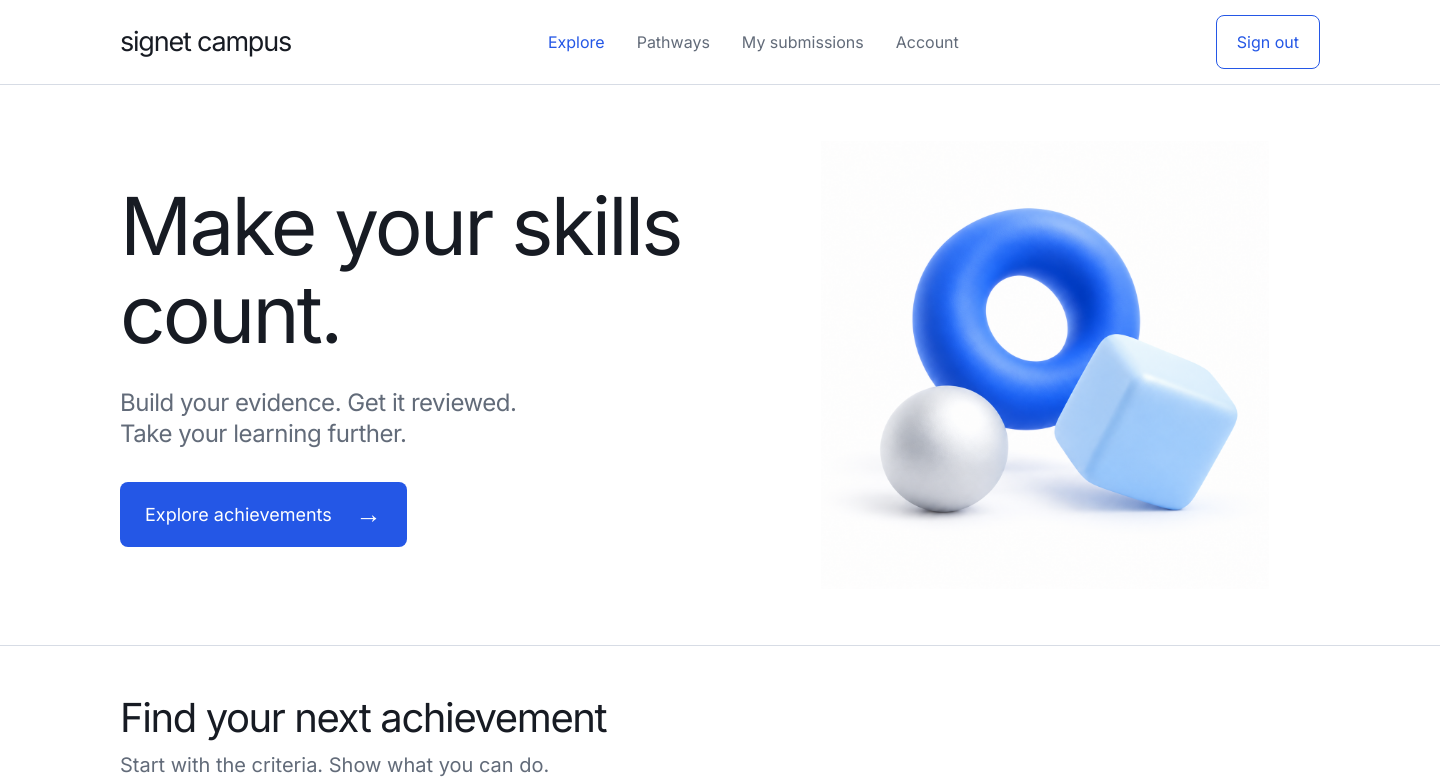
enrolls in a pathway and displays current credential progress
Step 1. Click the button "Pathways" → (673, 42), box [637,16,710,68]
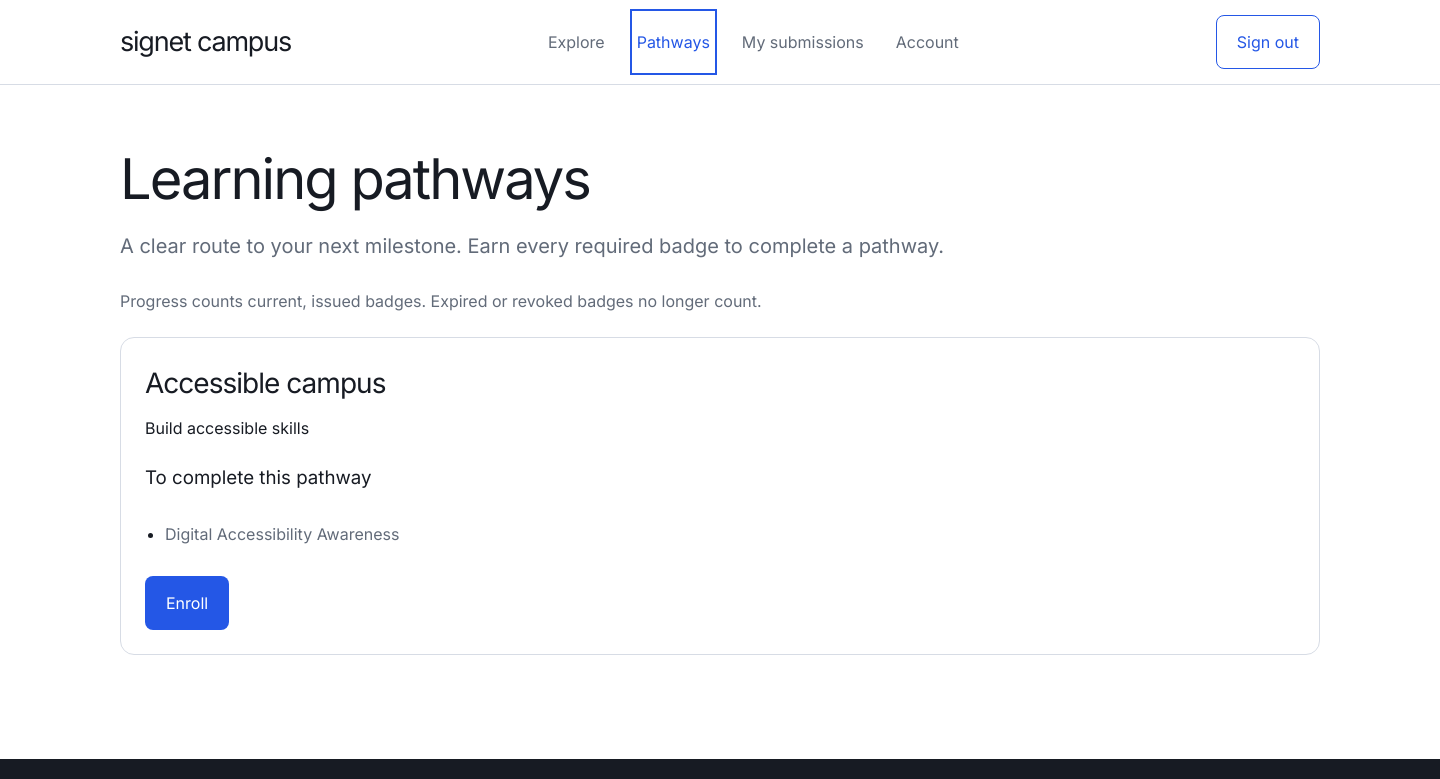
Step 2. Click the button "Enroll" → (187, 603), box [145,576,229,630]
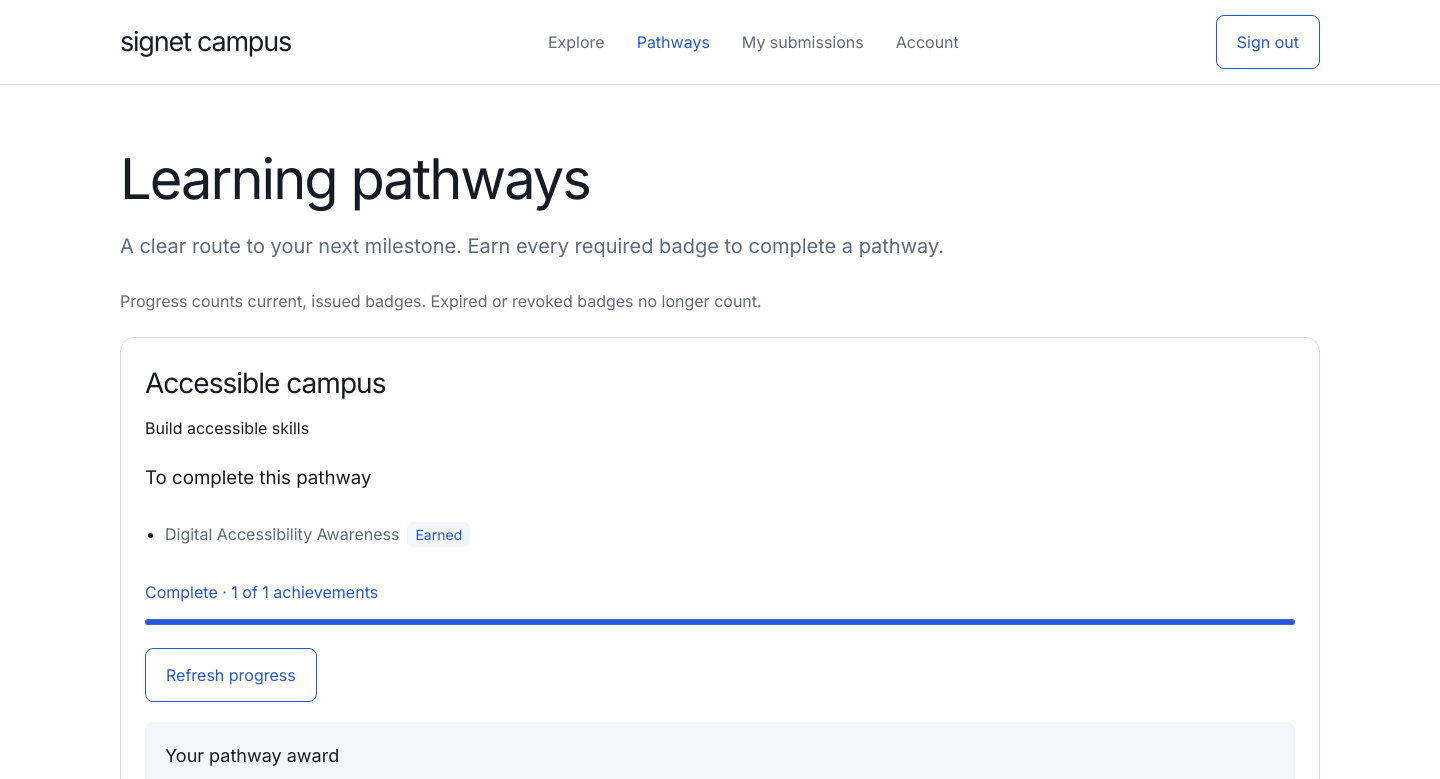
Check: the text "Complete · 1 of 1 achievements" is shown, box [145,582,378,602]
